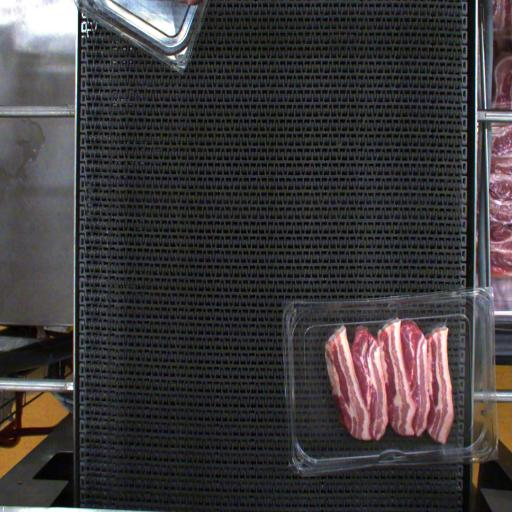unsealed: (328, 310, 454, 342)
